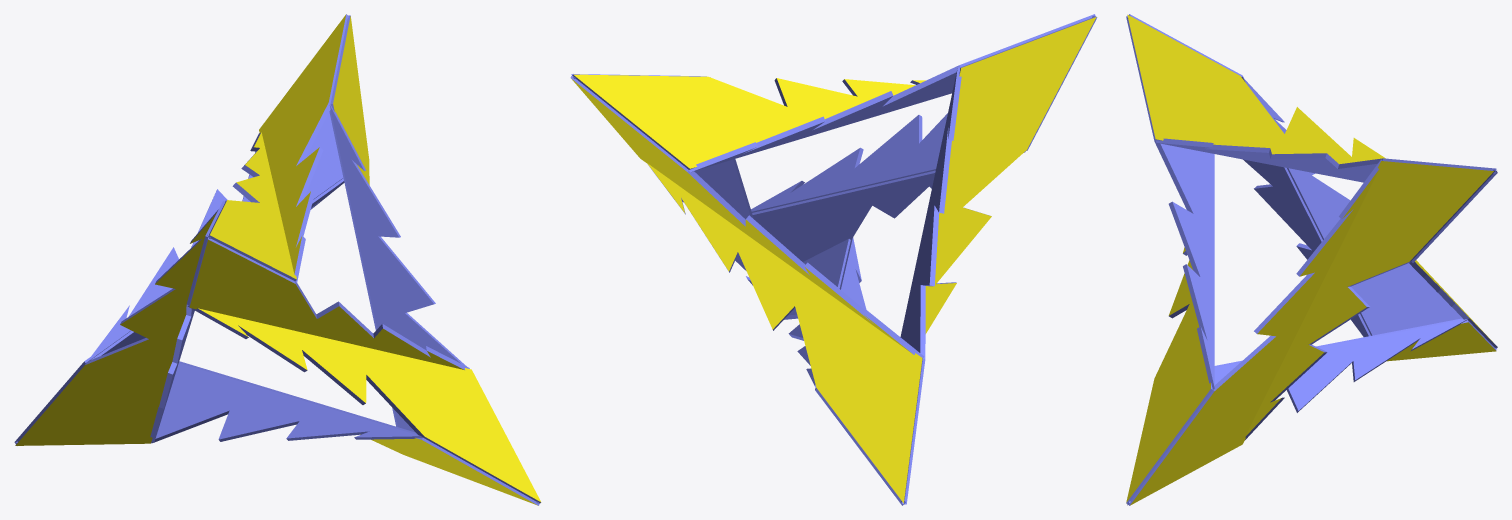
The model's file is Tetrahedron2.glb.
The picture shows the model from 3 angles, left to right: view 1: azimuth 30°, elevation 25°; view 2: azimuth 150°, elevation 25°; view 3: azimuth 270°, elevation 25°; orthographic projection. The views are drawn at different scales.
Parts seen in each view (by area): view 1: root; view 2: root; view 3: root.
Part boxes in pixels (x1,y1,x2,y2): root: (14,14,541,505); root: (570,14,1097,505); root: (1126,14,1497,505).
Size of the model in its own units: 0.7144 by 0.7144 by 0.7144.
